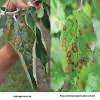Apple rust leaf: (59, 11, 98, 91), (7, 12, 39, 92)
